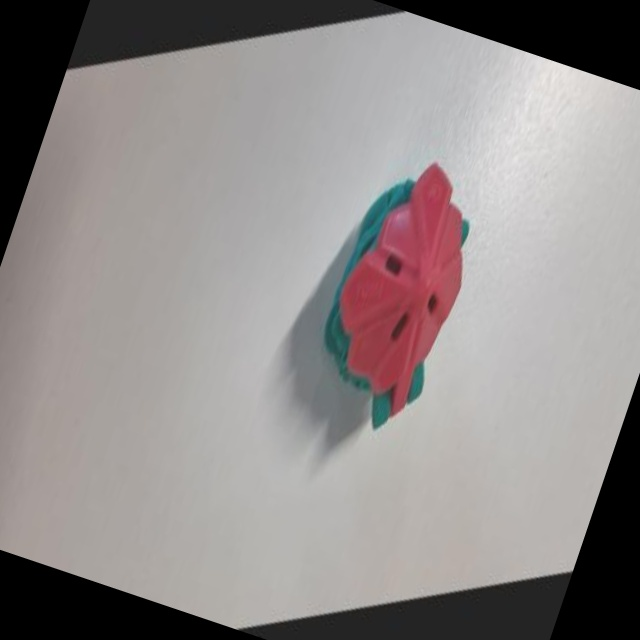House: (251, 63, 545, 496)
